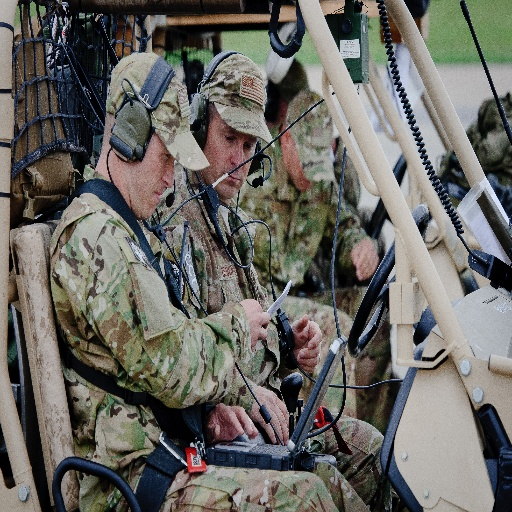hand: (253, 383, 292, 447), (199, 410, 257, 453), (290, 314, 323, 377), (238, 298, 272, 351), (350, 235, 380, 281)
